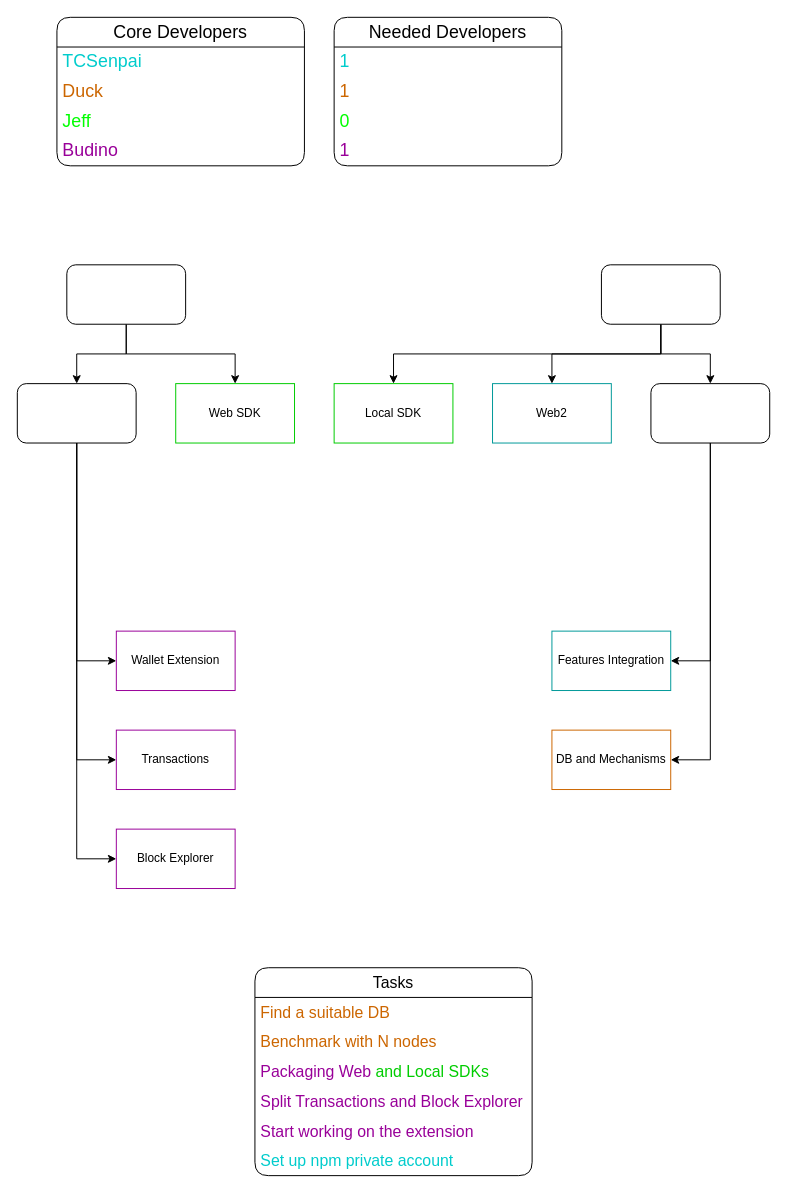
Image size: 787x1193. Some labels were removed from this diagram. The shapes that lost their labels are listed below. From the top down, each one's centre as x and y in pixels, then its label:
At point (126, 294): "Frontend".
At point (660, 294): "Backend".
At point (76, 413): "dApp".
At point (710, 413): "Core".
